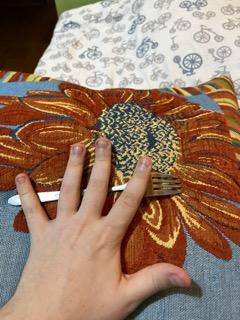fork: (6, 171, 184, 209)
